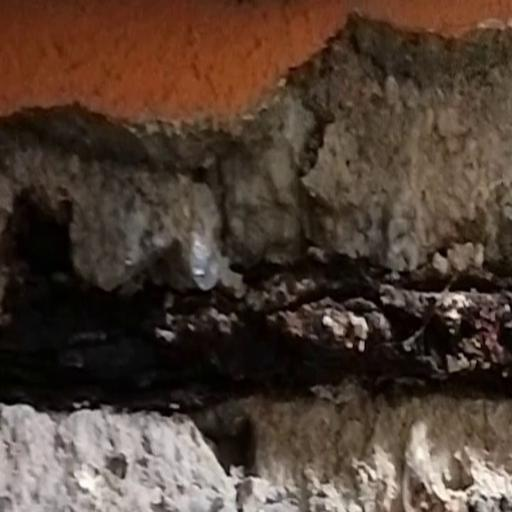spalling: (27, 14, 512, 504)
